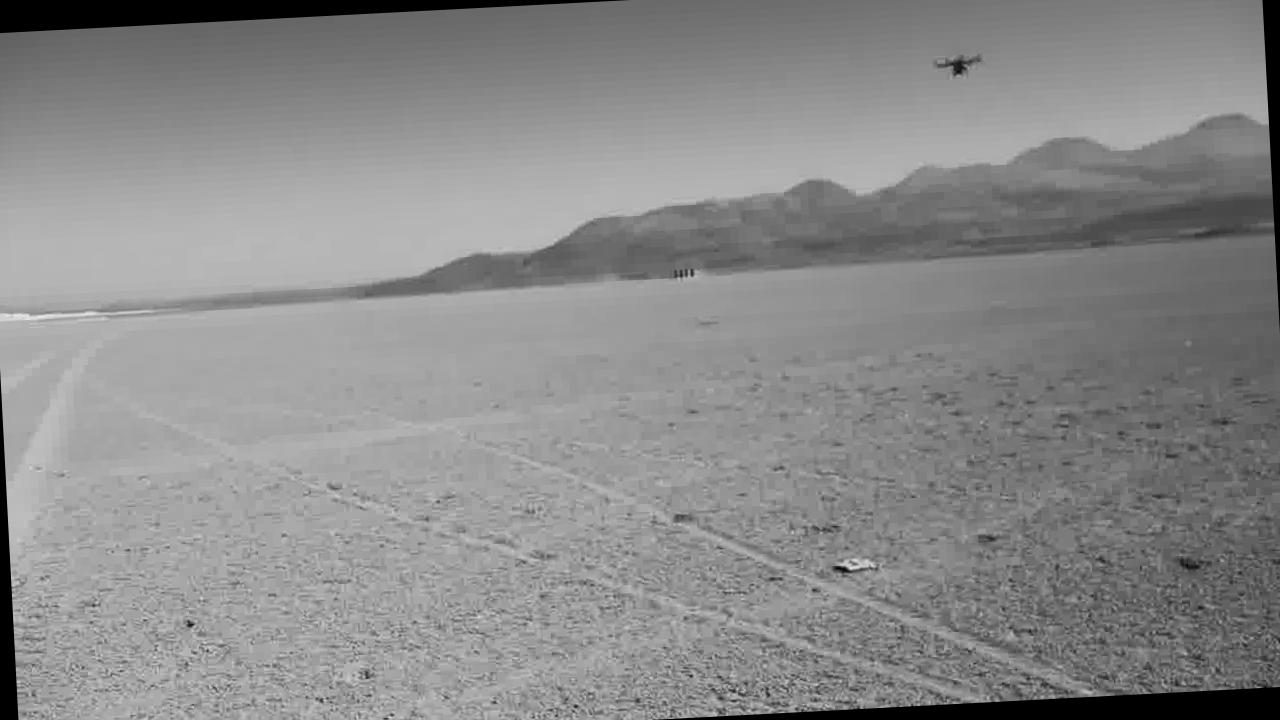drone: (925, 48, 984, 82)
